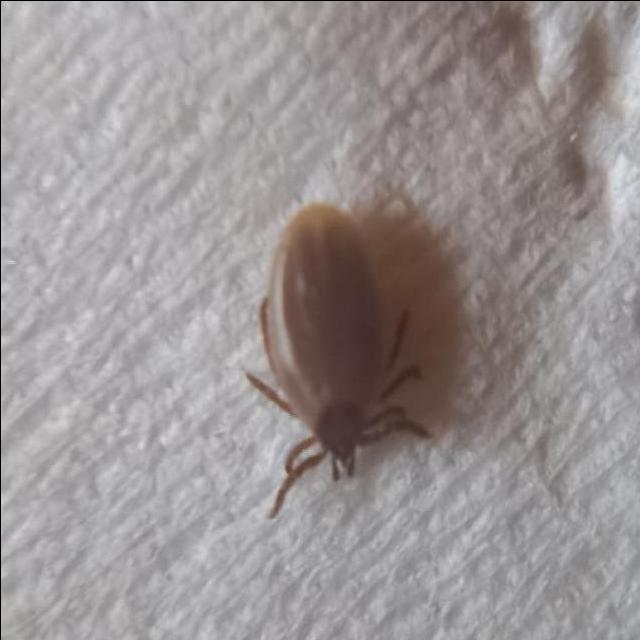Ixodes Ricinus-F-Fed: (247, 214, 429, 520)
